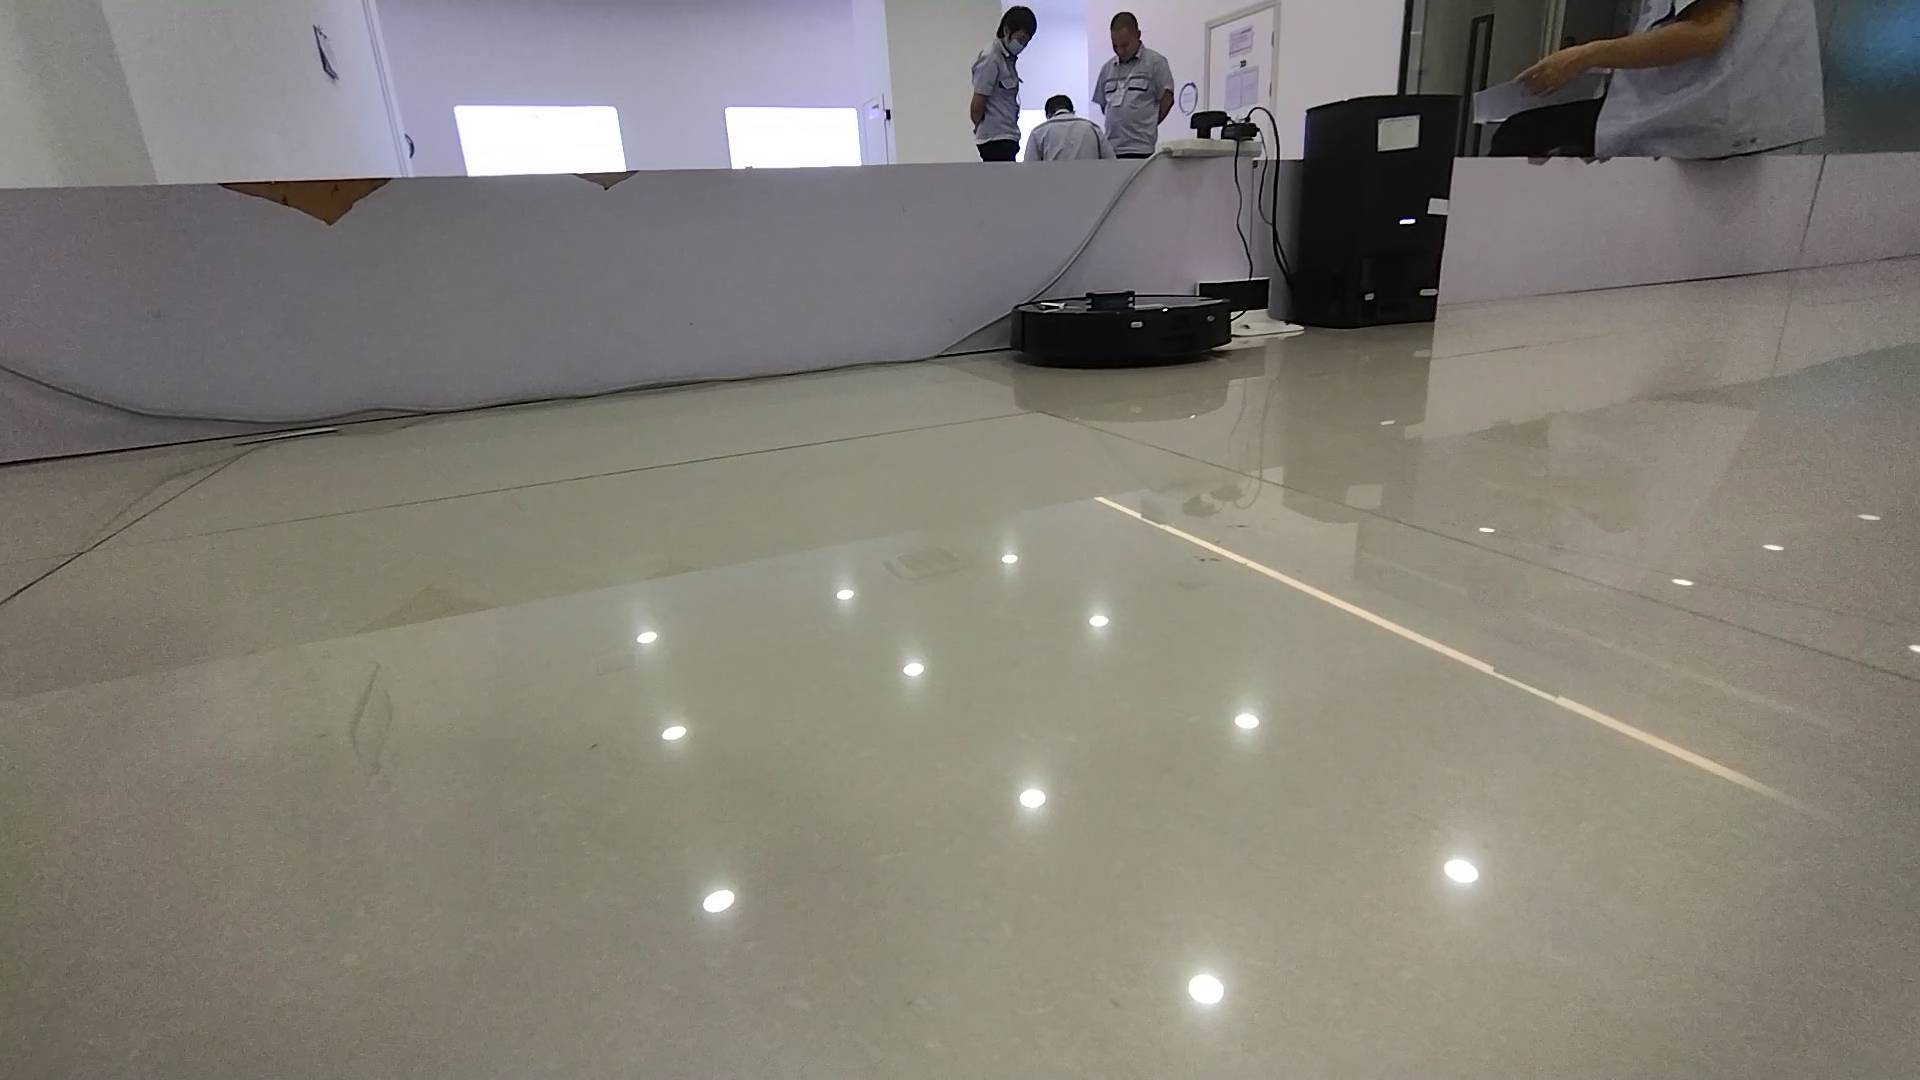dust collecting barrel: (1298, 96, 1462, 328)
recharge seat: (1193, 274, 1302, 338)
